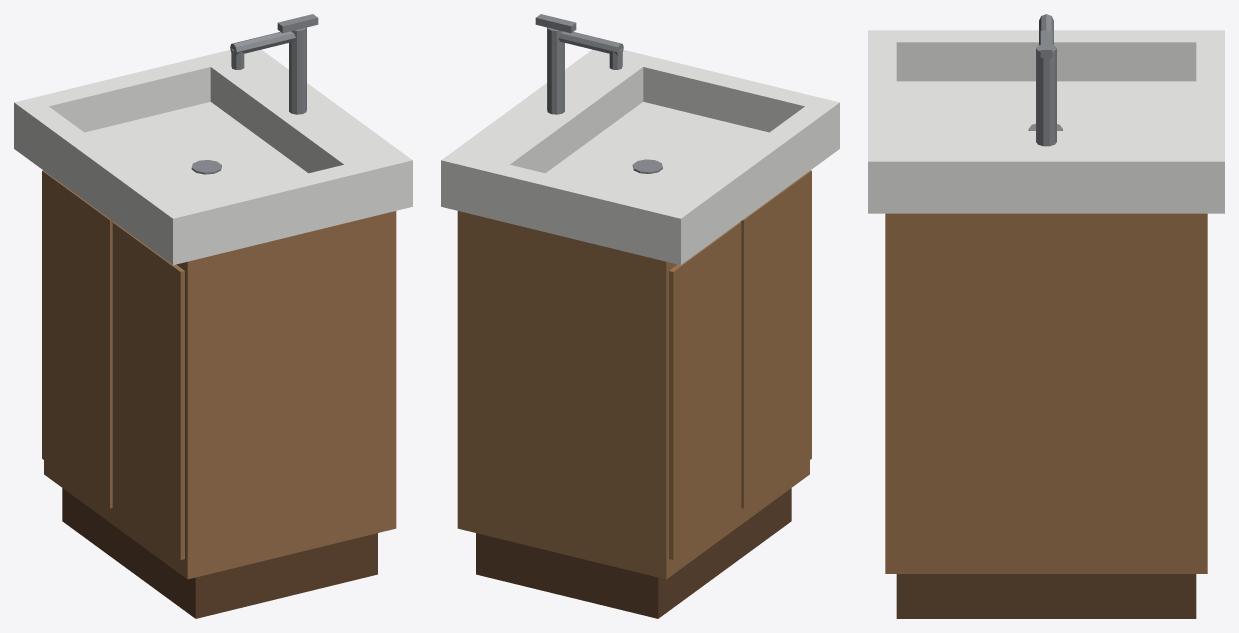
The model's file is Lavamanos.fbx.
3 renders of one model, left to right at view 1: azimuth 30°, elevation 25°; view 2: azimuth 150°, elevation 25°; view 3: azimuth 270°, elevation 25°, orthographic. The views are drawn at different scales.
Visible parts, largest first — view 1: sink_BachaCanilla; view 2: sink_BachaCanilla; view 3: sink_BachaCanilla.
Boxes of the visible parts, x1,y1,x2,y2 form: sink_BachaCanilla: (14,14,412,618); sink_BachaCanilla: (441,14,839,618); sink_BachaCanilla: (868,14,1224,618).
Bounding box in the file's own units: 0.54 × 1.1 × 0.62.
